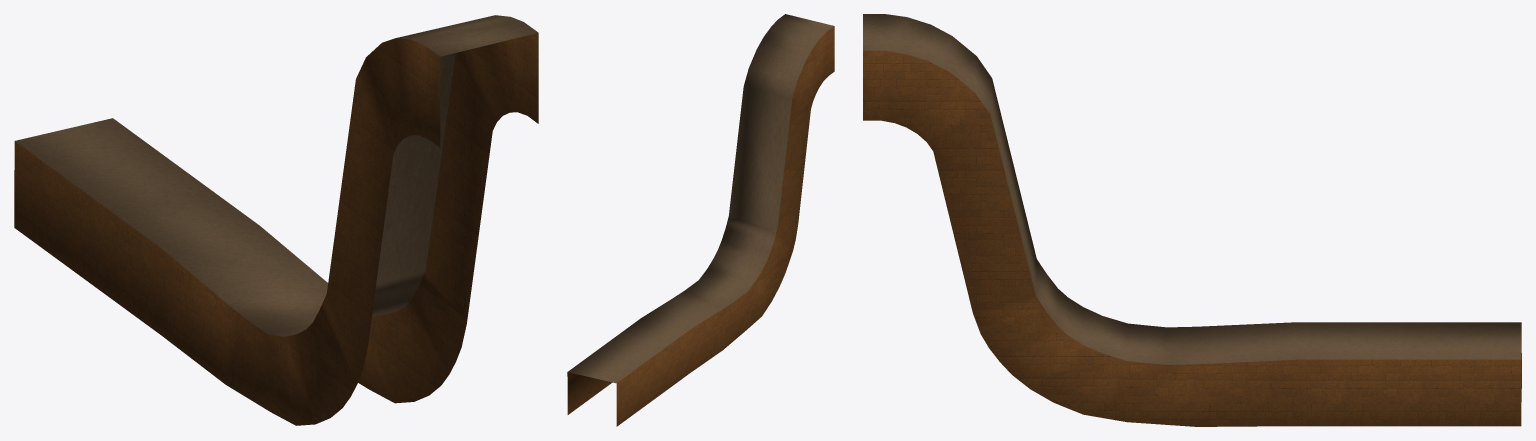
Rendered from walls_jumpRoomConnector.fbx.
The picture shows the model from 3 angles, left to right: view 1: azimuth 30°, elevation 25°; view 2: azimuth 150°, elevation 25°; view 3: azimuth 270°, elevation 25°; orthographic projection. The views are drawn at different scales.
Visible parts, largest first — view 1: jumpRoomConnector; view 2: jumpRoomConnector; view 3: jumpRoomConnector.
Boxes of the visible parts, x1,y1,x2,y2 form: jumpRoomConnector: (14,15,538,425); jumpRoomConnector: (567,14,834,426); jumpRoomConnector: (863,14,1521,426).
Bounding box in the file's own units: 696 × 3149 × 5017.
